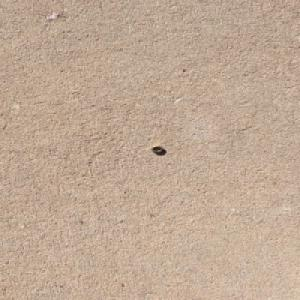Nut: (150, 145, 164, 153)
